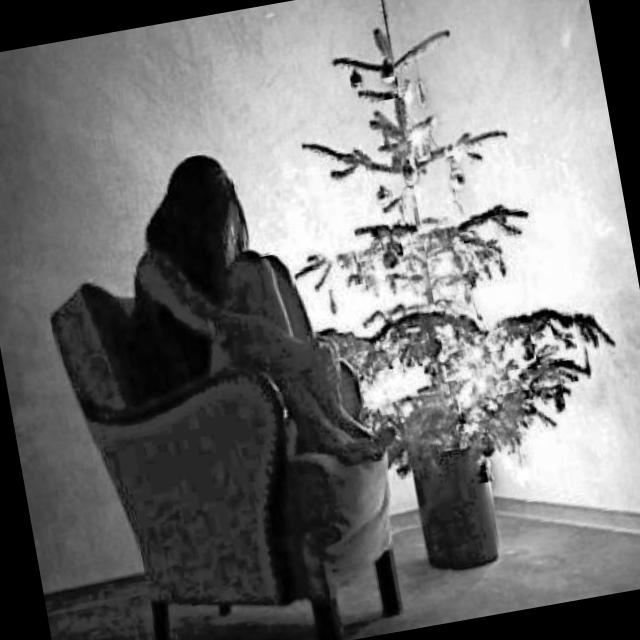Person: (112, 126, 398, 504)
Tree: (284, 0, 640, 587)
